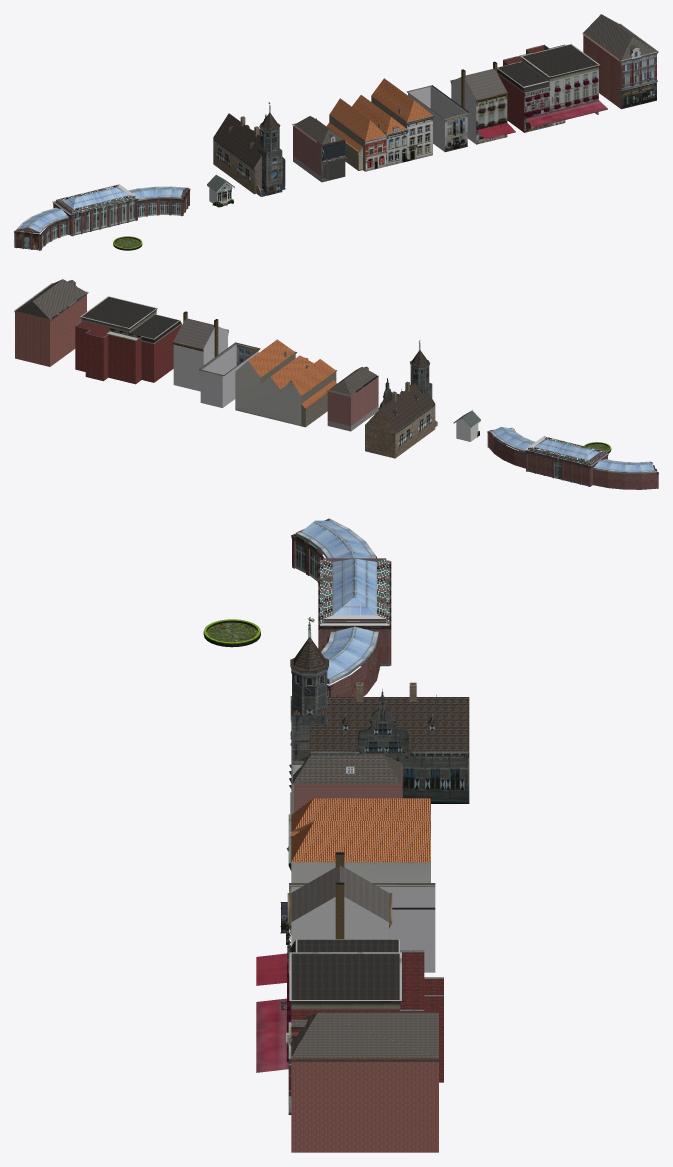
The model's file is euro_a.glb.
The picture shows the model from 3 angles, top to bottom: view 1: azimuth 30°, elevation 25°; view 2: azimuth 150°, elevation 25°; view 3: azimuth 270°, elevation 25°; orthographic projection. The views are drawn at different scales.
Visible parts, largest first — view 1: CornerShop, DutchRow, GlassArcade, BrickHouse_B, TownHall, NarrowHouse, BrickHouse_A, FacadeShell, Pavilion_White, FlowerBed; view 2: CornerShop, DutchRow, GlassArcade, BrickHouse_B, TownHall, NarrowHouse, BrickHouse_A, FacadeShell, Pavilion_White; view 3: BrickHouse_B, TownHall, CornerShop, GlassArcade, DutchRow, NarrowHouse, BrickHouse_A, FacadeShell, FlowerBed.
Boxes of the visible parts, box(x1,y1,x2,y2) form: CornerShop: box(497, 44, 607, 132); DutchRow: box(326, 78, 434, 171); GlassArcade: box(14, 184, 190, 250); BrickHouse_B: box(582, 14, 658, 109); TownHall: box(213, 102, 285, 196); NarrowHouse: box(450, 61, 515, 144); BrickHouse_A: box(292, 116, 346, 182); FacadeShell: box(406, 85, 469, 152); Pavilion_White: box(207, 174, 234, 207); FlowerBed: box(113, 236, 142, 250); CornerShop: box(75, 296, 181, 384); DutchRow: box(235, 339, 337, 427); GlassArcade: box(487, 427, 658, 489); BrickHouse_B: box(14, 279, 88, 366); TownHall: box(365, 340, 437, 458); NarrowHouse: box(173, 311, 228, 391); BrickHouse_A: box(326, 366, 378, 431); FacadeShell: box(199, 342, 260, 407); Pavilion_White: box(453, 409, 480, 441); BrickHouse_B: box(286, 1012, 438, 1152); TownHall: box(290, 617, 469, 803); CornerShop: box(256, 939, 443, 1082); GlassArcade: box(291, 518, 391, 696); DutchRow: box(286, 798, 430, 882); NarrowHouse: box(256, 852, 392, 985); BrickHouse_A: box(289, 754, 402, 814); FacadeShell: box(280, 883, 435, 972); FlowerBed: box(203, 619, 260, 647).
Size of the model in its own units: 148 by 19.88 by 27.57.
Materials: 88 (87 with a texture image).
